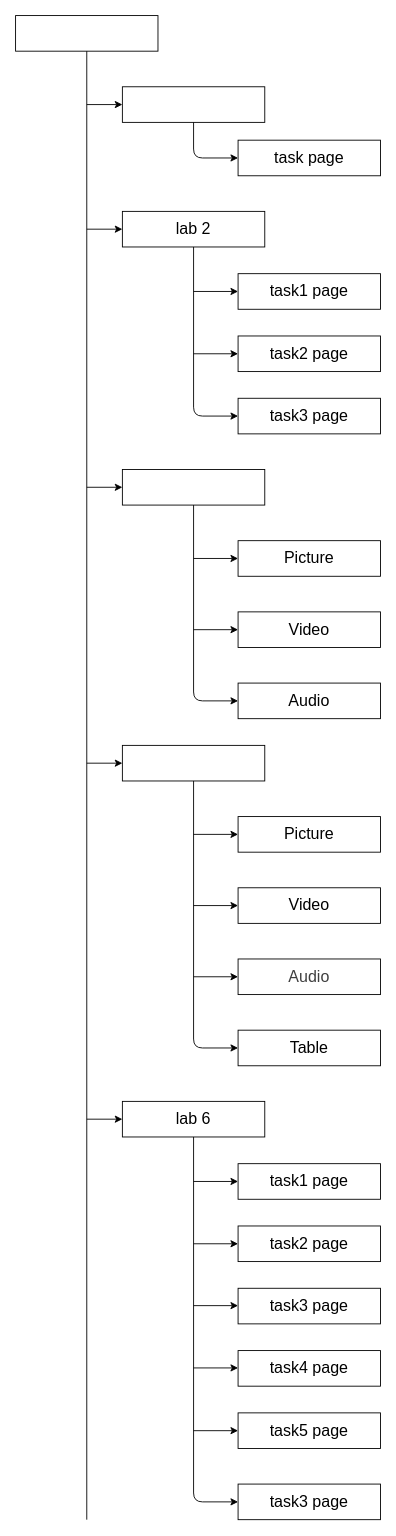
Some shapes in this 396 by 1536 pixel diagram are drawn without their labels. Each missing label, with the centre of its shape:
lab 1: (193,104)
lab 3: (193,487)
lab 4: (193,762)
main: (86,33)
